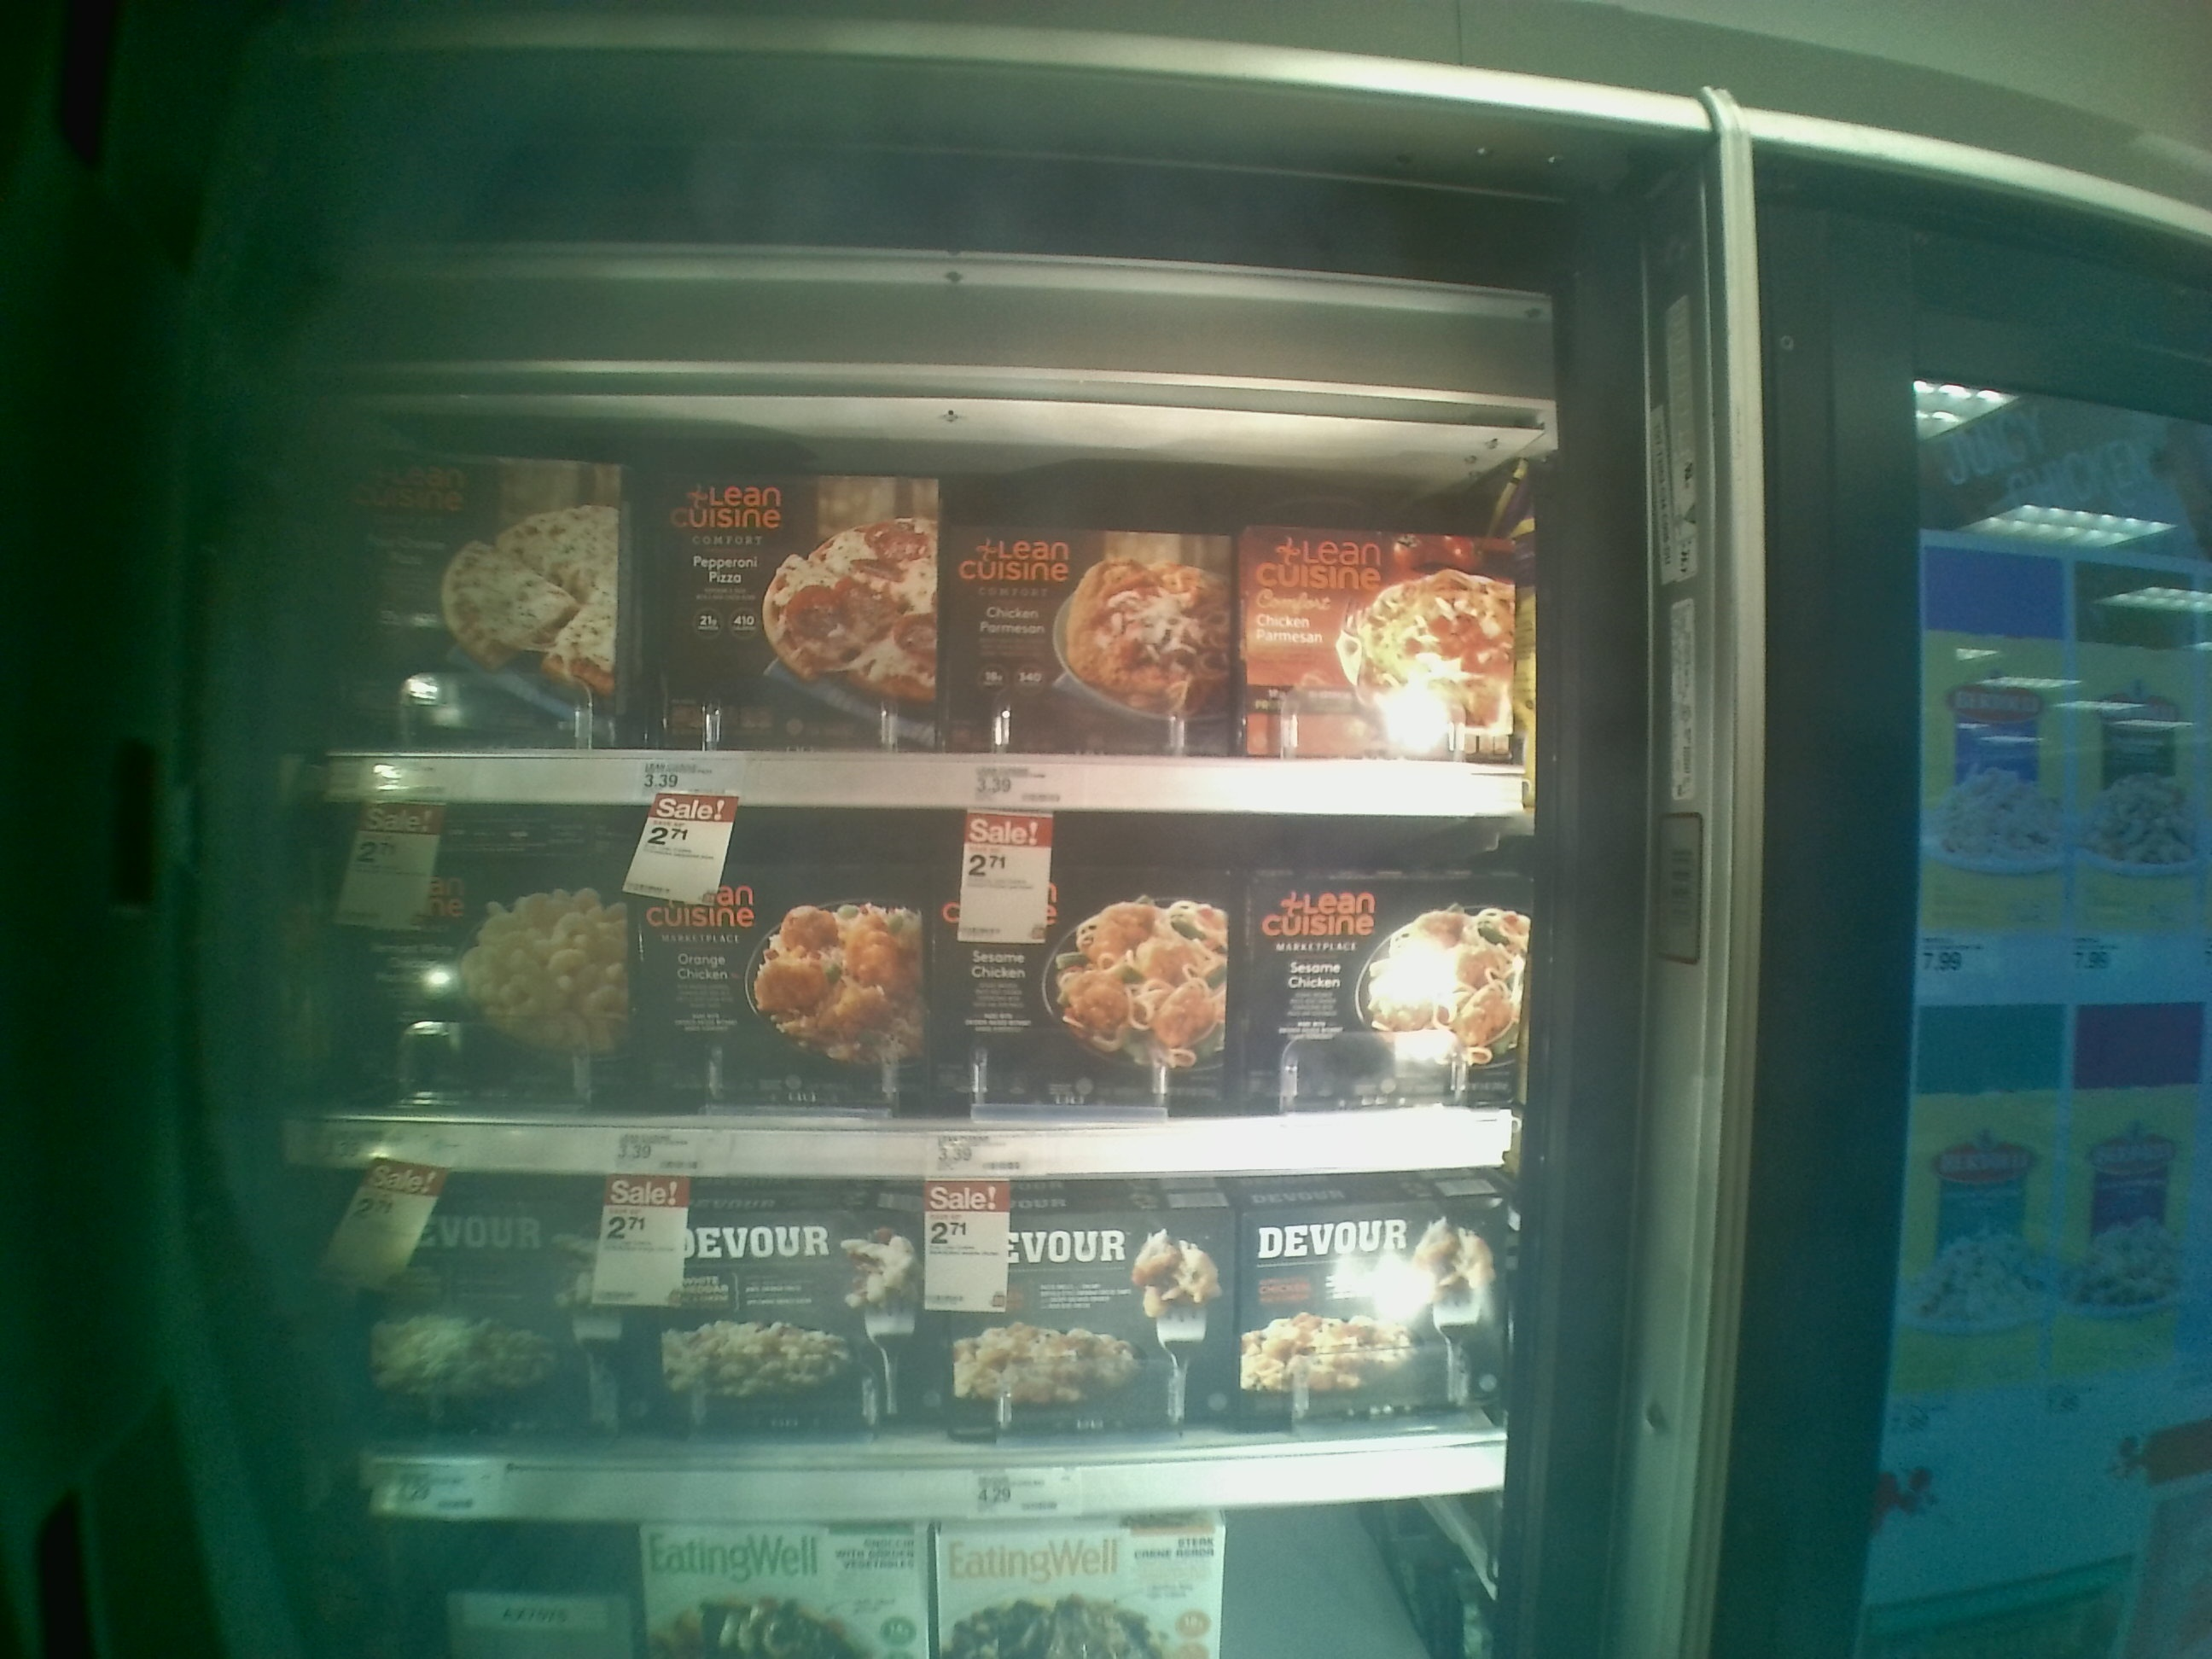shelf: (284, 368, 1531, 823), (294, 803, 1531, 1173), (298, 1171, 1521, 1521)
